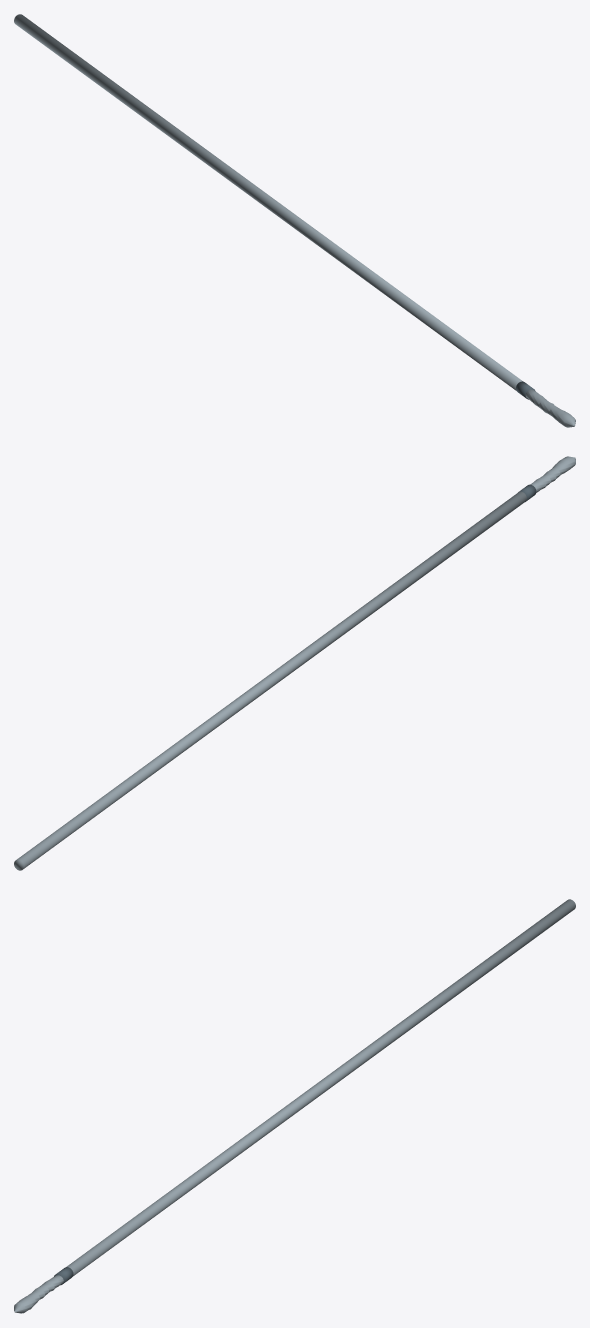
File: cannulated_drill.fbx
3 views of the same model, one above another, from view 1: azimuth 30°, elevation 25°; view 2: azimuth 150°, elevation 25°; view 3: azimuth 330°, elevation 25° (orthographic).
Parts seen in each view (by area): view 1: Tip base collar, point; view 2: Tip base collar, point; view 3: Tip base collar, point.
Boxes of the visible parts, box(x1,y1,x2,y2) form: Tip base collar: box(14, 14, 535, 399); point: box(525, 389, 575, 427); Tip base collar: box(14, 484, 536, 870); point: box(530, 456, 575, 492); Tip base collar: box(54, 899, 575, 1285); point: box(14, 1275, 63, 1313).
Size of the model in its own units: 0.299 by 0.24 by 21.72.
